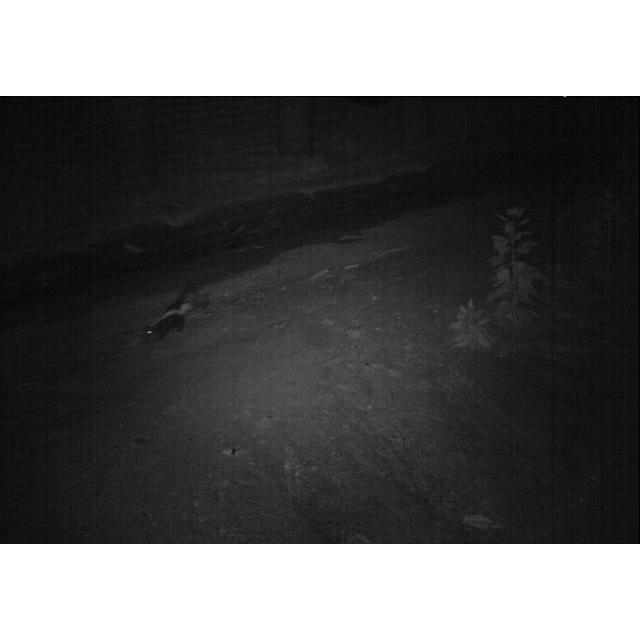animals: (138, 288, 202, 346)
